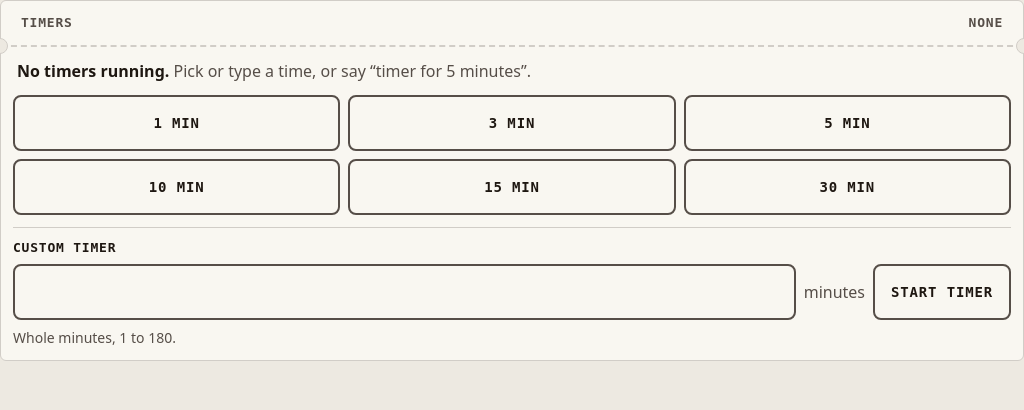
Test: TimersPanel custom duration › rejects an empty value, focuses the field and links the message to it
Click the button "Start timer": x=942, y=292 [873,264,1011,320]
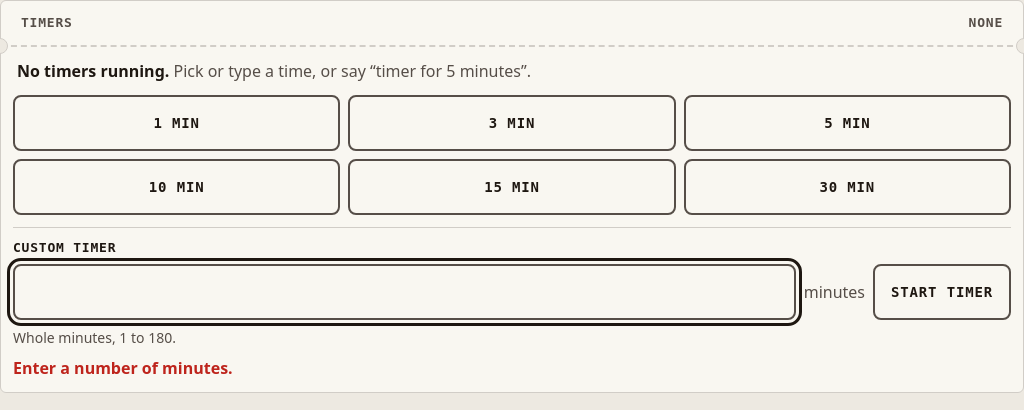
Now the message reads "Enter a number of minutes.", box [13,357,233,379]
